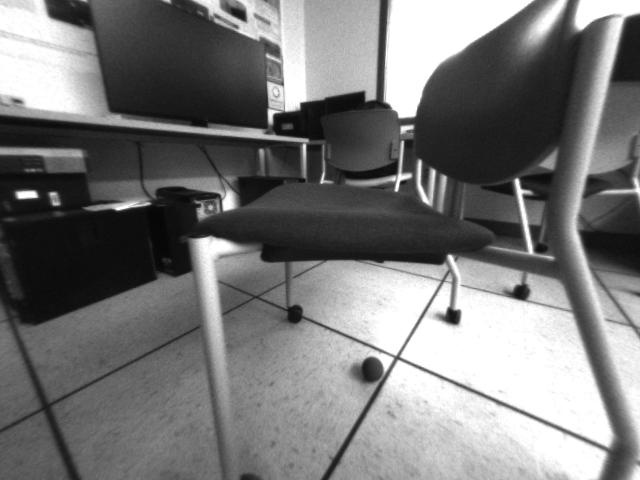dogtoy: (356, 352, 395, 385)
